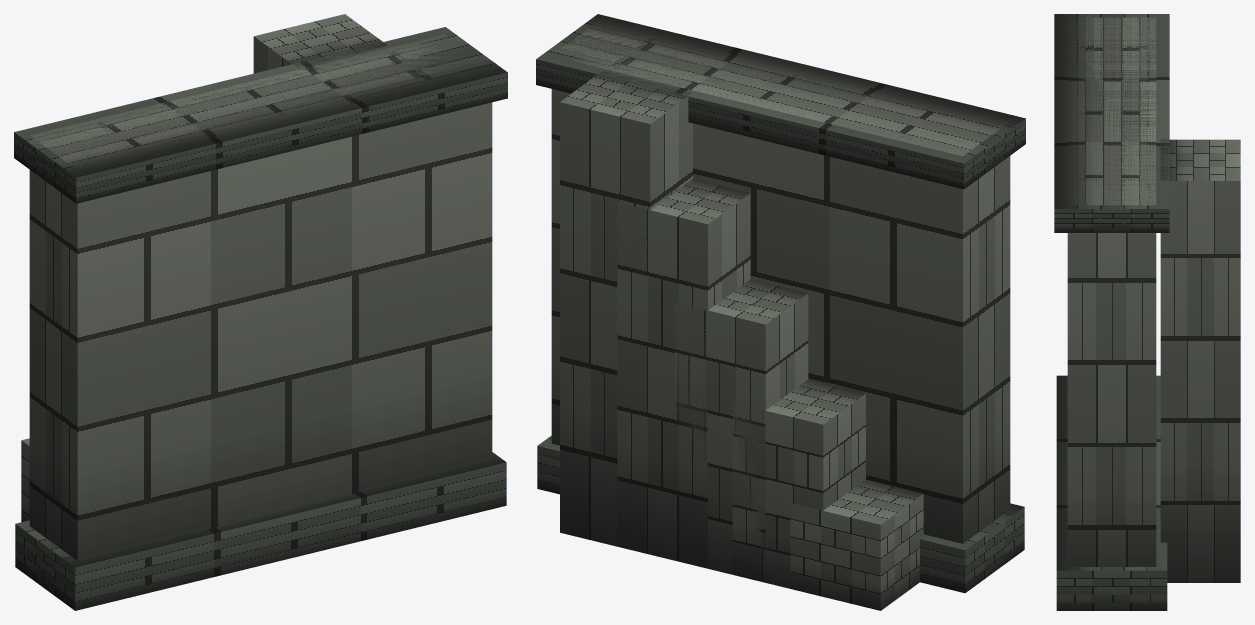
File: wall_stairs.gltf
The picture shows the model from 3 angles, left to right: view 1: azimuth 30°, elevation 25°; view 2: azimuth 150°, elevation 25°; view 3: azimuth 270°, elevation 25°; orthographic projection. The views are drawn at different scales.
Visible parts, largest first — view 1: wall_stairs; view 2: wall_stairs; view 3: wall_stairs.
Part boxes in pixels (bbox=[...]): wall_stairs: bbox=[14, 14, 507, 610]; wall_stairs: bbox=[536, 14, 1025, 610]; wall_stairs: bbox=[1054, 14, 1240, 610].
Size of the model in its own units: 1.04 by 1 by 0.42.
Materials: 1 (1 with a texture image).
